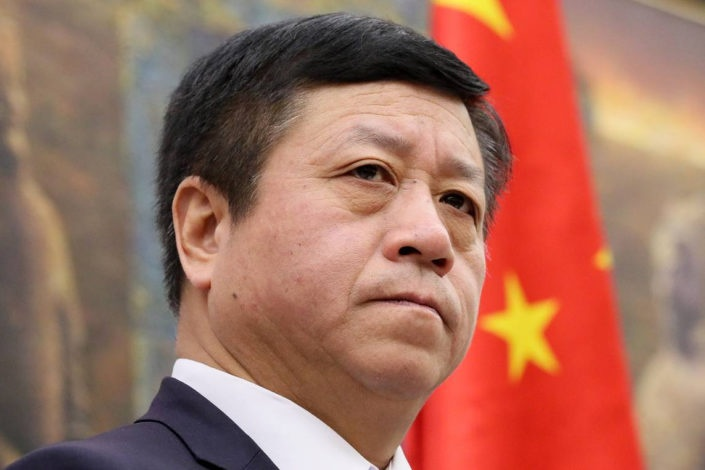without_mask: (185, 81, 509, 404)
